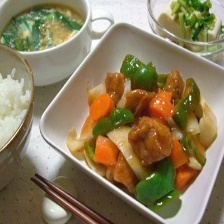dal: (0, 2, 87, 50)
